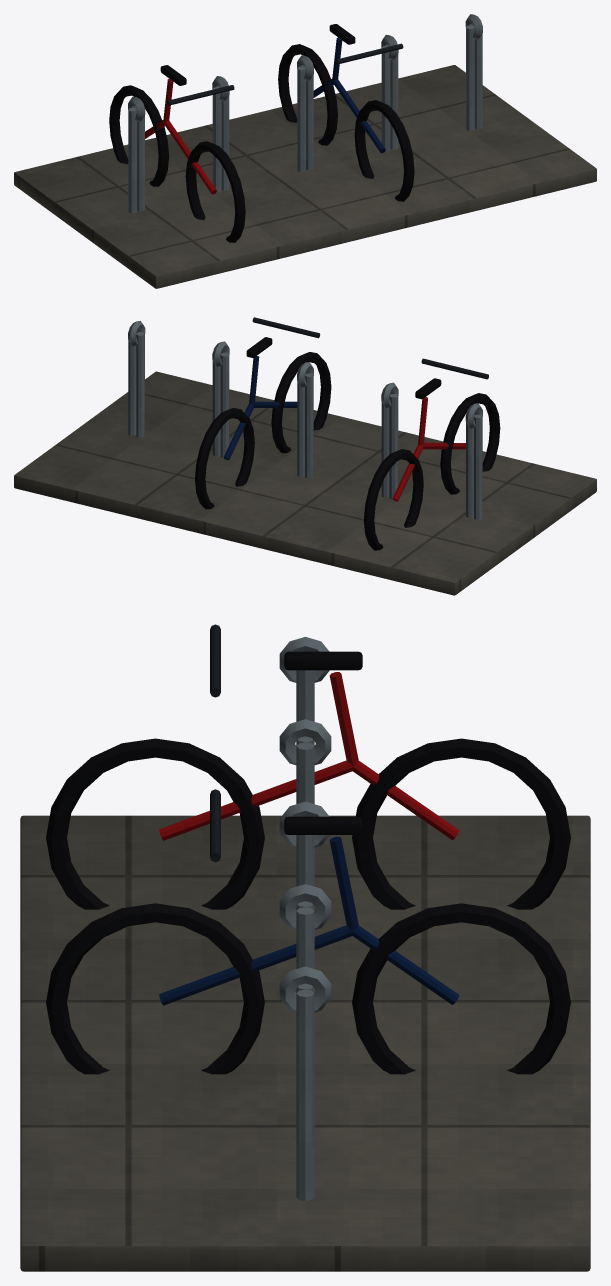
File: fac_bikerack.glb
The picture shows the model from 3 angles, top to bottom: view 1: azimuth 30°, elevation 25°; view 2: azimuth 150°, elevation 25°; view 3: azimuth 270°, elevation 25°; orthographic projection. The views are drawn at different scales.
Parts seen in each view (by area): view 1: FAC_BIKERACK; view 2: FAC_BIKERACK; view 3: FAC_BIKERACK.
Boxes of the visible parts, x1,y1,x2,y2 form: FAC_BIKERACK: (14,14,596,288); FAC_BIKERACK: (14,317,596,595); FAC_BIKERACK: (20,624,590,1271).
Bounding box in the file's own units: 3.4 × 1.04 × 1.9.
6 materials, 6 textured.
